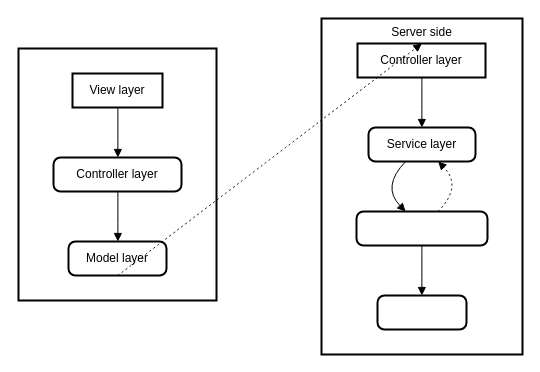
This 540x372 diagram has some shape labels left out. The shapes that lost their labels are listed below. From the top down, each one's box as (x1, y1, x2, y2) in pixels, then its label:
(17, 47, 217, 301): Client side
(355, 210, 488, 246): Repository layer
(376, 294, 467, 330): Data layer
